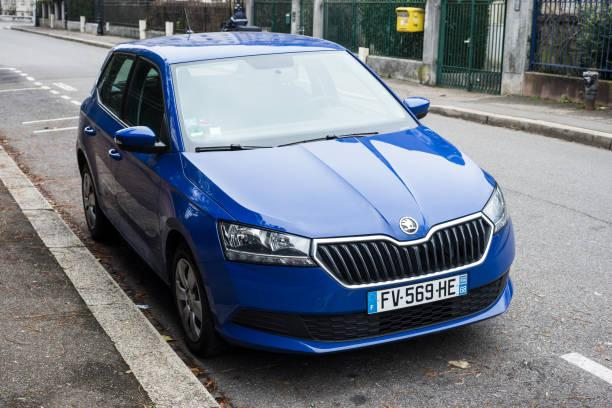skoda: (395, 210, 423, 242)
